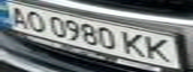0: (97, 25, 118, 51), (45, 14, 66, 38)
8: (78, 21, 100, 46)
9: (63, 17, 81, 43)
A: (3, 3, 30, 28)
K: (139, 34, 178, 63), (121, 29, 148, 57)
O: (21, 9, 48, 34)
